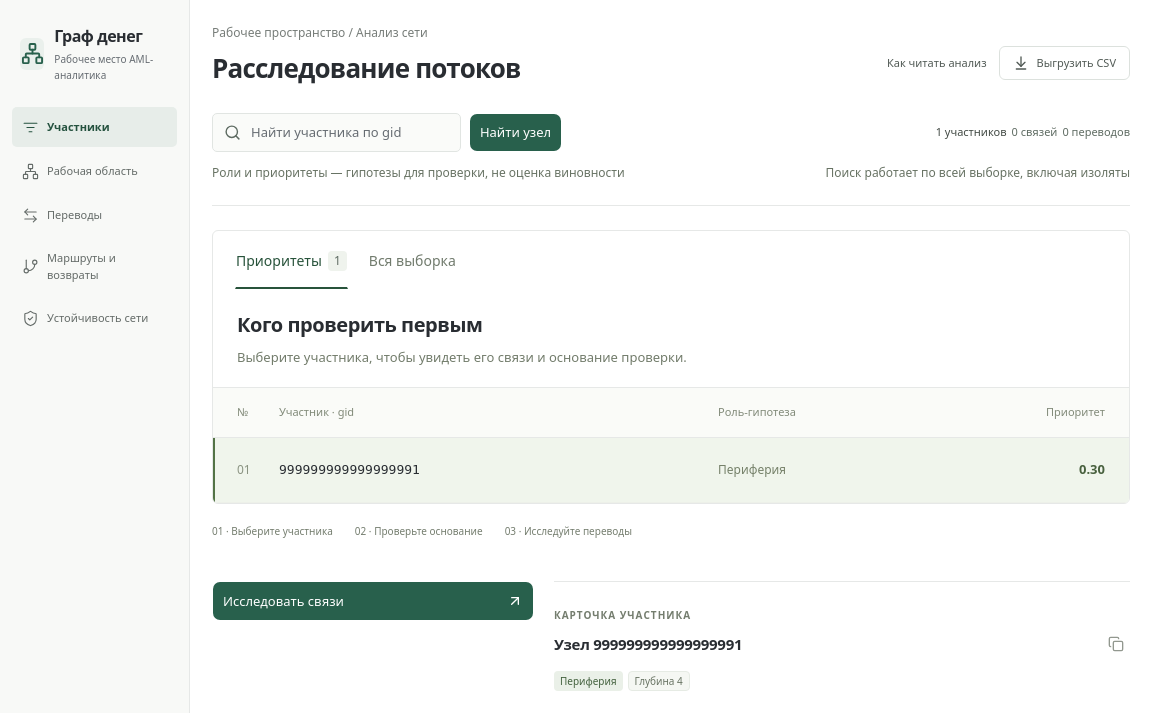
Test: isolated boundary node keeps selection after unknown search and explains limits
Type "missing" into the field named "Поиск по gid" at (336, 132), box [212,112,461,152]
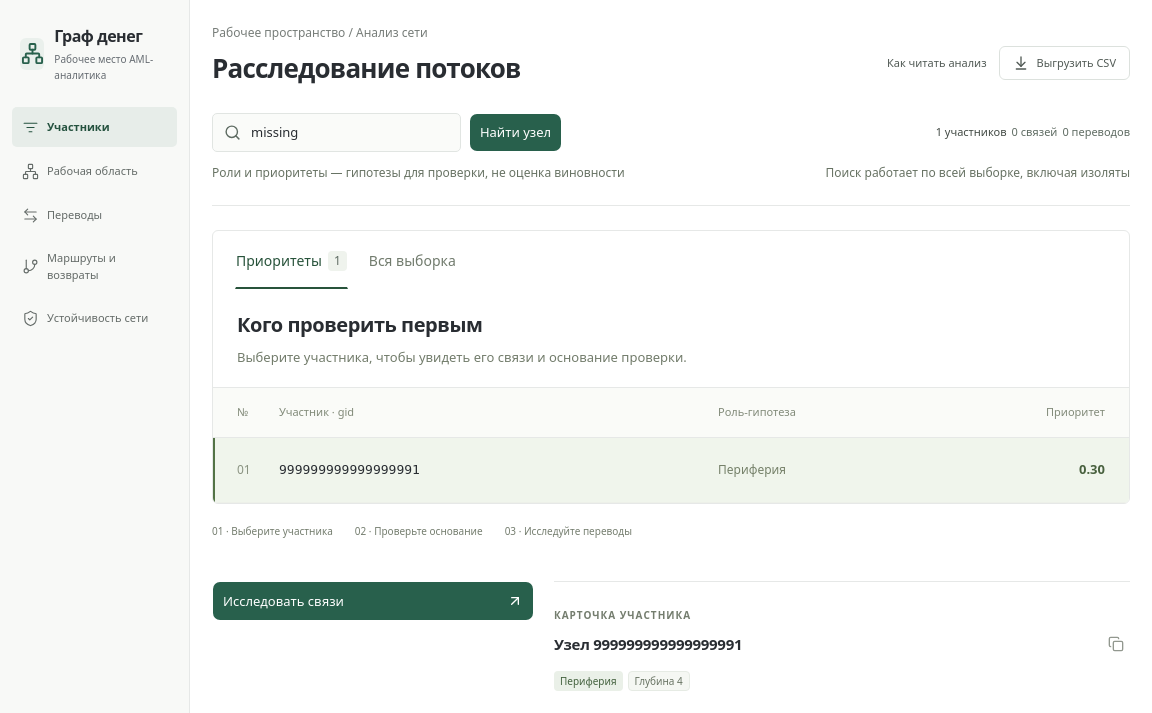
Click the button "Найти узел" at (515, 132), box [469,112,562,152]
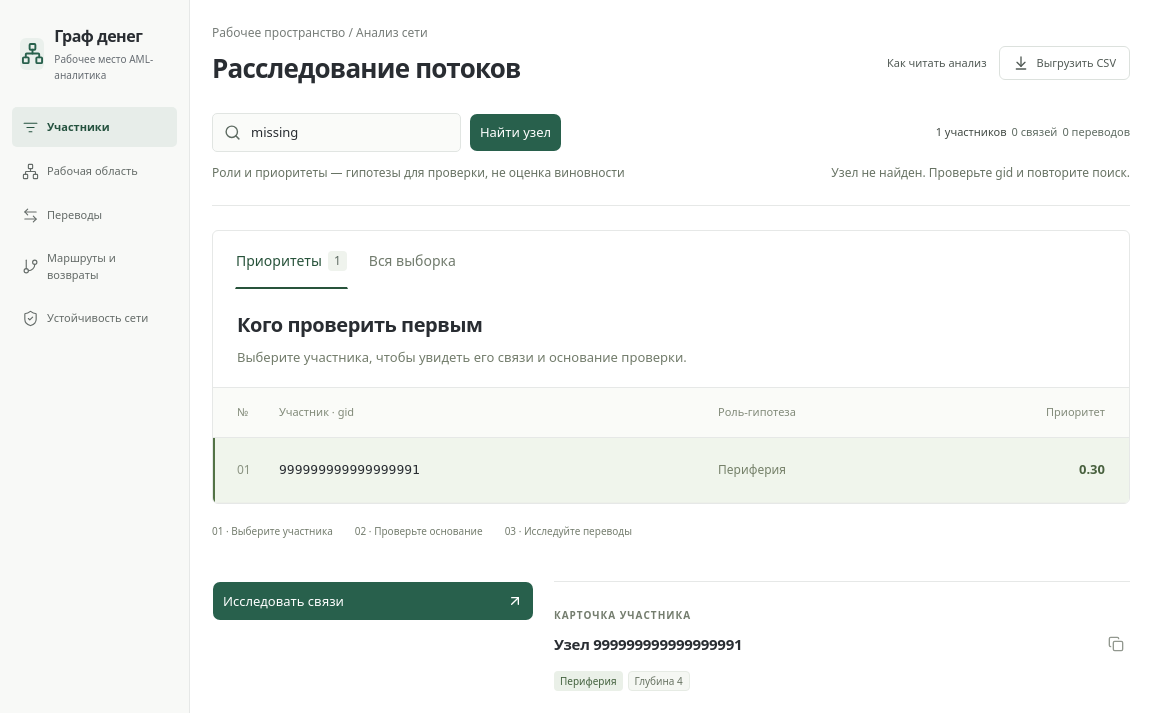
Check: the text "Узел не найден. Проверьте gid и повторите поиск." is shown, box [831,164,1130,182]
